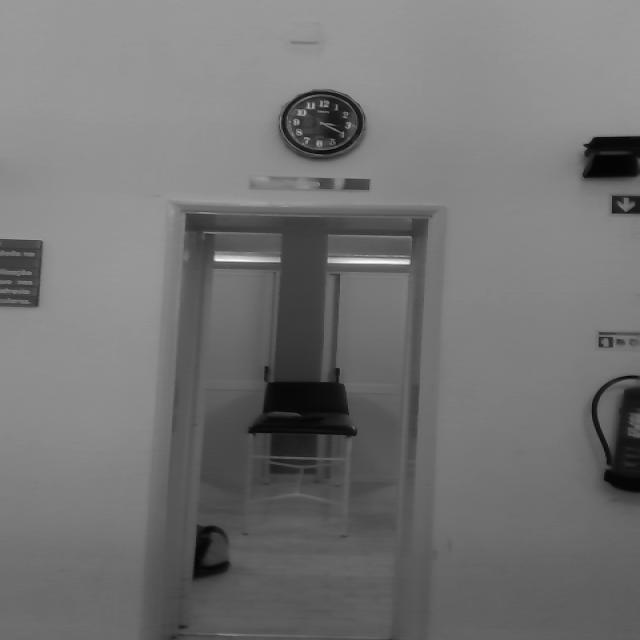door: (134, 190, 460, 640)
